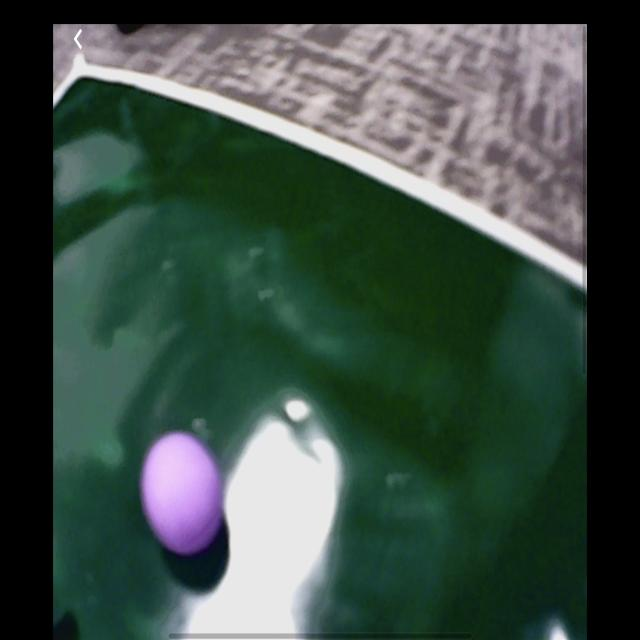ball: (143, 435, 224, 557)
